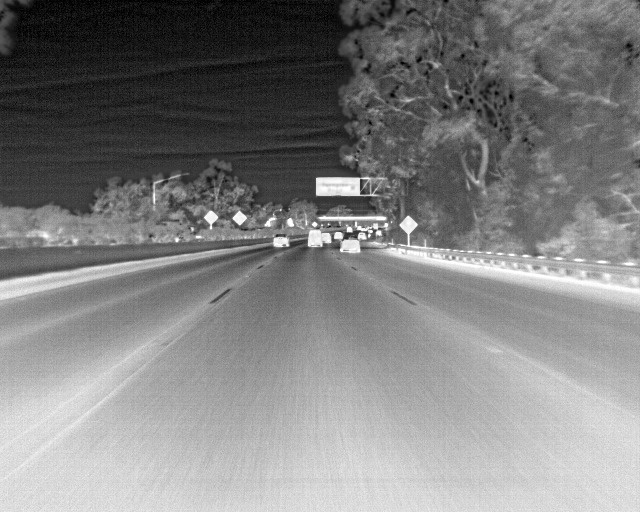vehicle: (341, 236, 361, 252), (308, 229, 324, 247), (273, 234, 288, 247)
